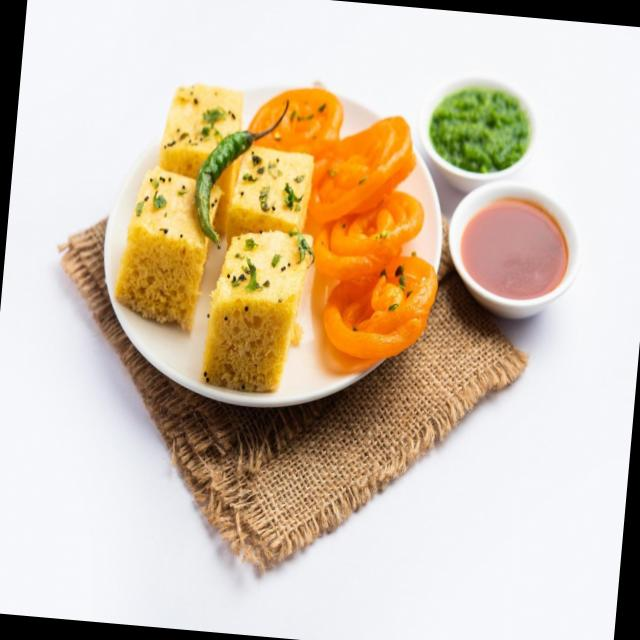dhokla: (106, 80, 313, 390)
